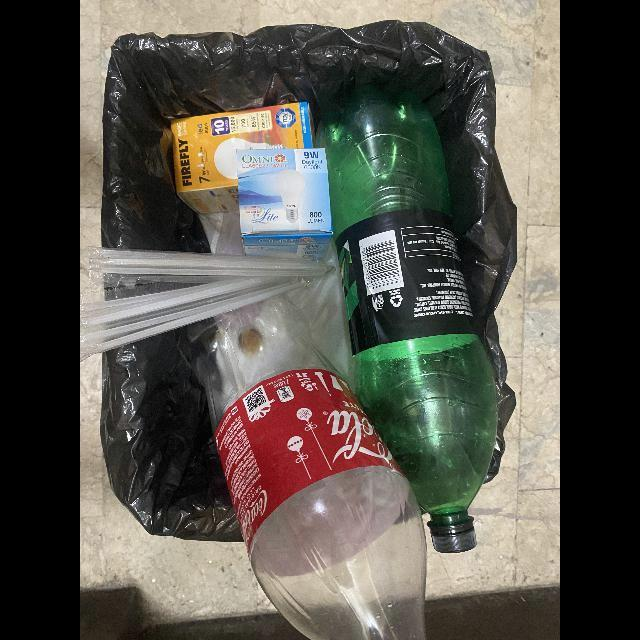cardboard: (172, 102, 314, 215), (237, 148, 332, 260)
plastic_bottle: (186, 296, 428, 640), (323, 98, 498, 554)
